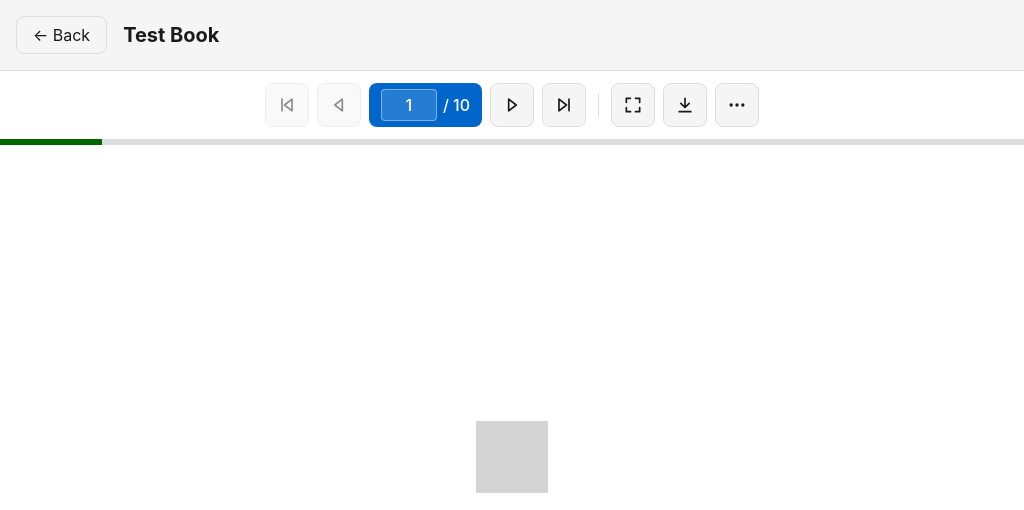
Test: ReaderPage actions menu › should hide the remove actions until the menu is opened
Expected: the menu item "Remove from list" is not shown
Click the button named "More actions" at (737, 105), box [715,83,759,127]
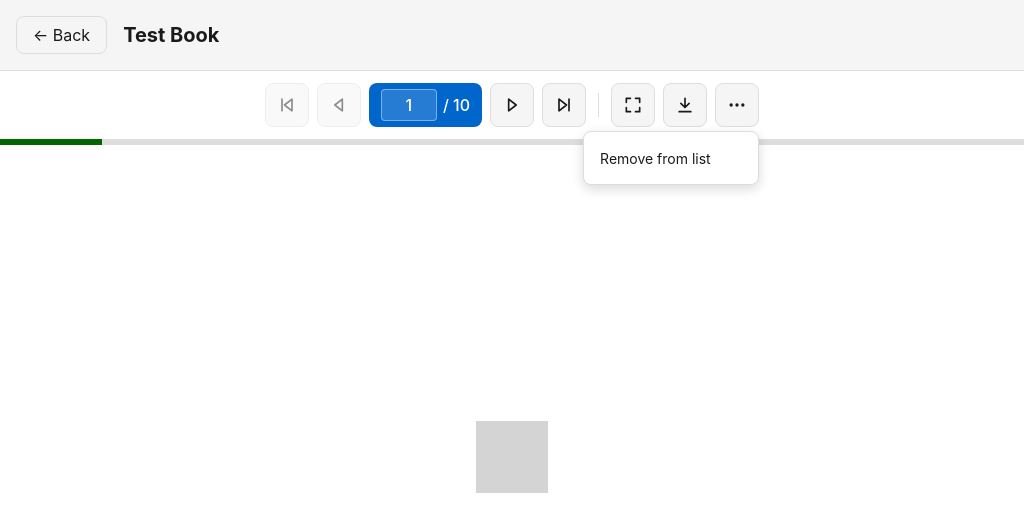
Result: the menu item "Remove from list" is shown at [588,136,754,180]
